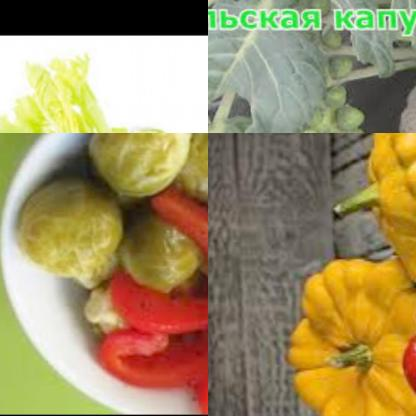bell pepper: (145, 186, 208, 379), (89, 336, 208, 399), (181, 373, 208, 415)
brus capusta: (111, 212, 208, 313), (31, 184, 126, 286), (85, 133, 186, 206), (289, 74, 386, 133), (178, 133, 208, 214)
celery: (5, 50, 203, 133)
squash-patisson: (266, 247, 416, 416), (342, 133, 416, 286)
tomato: (390, 277, 416, 416)
